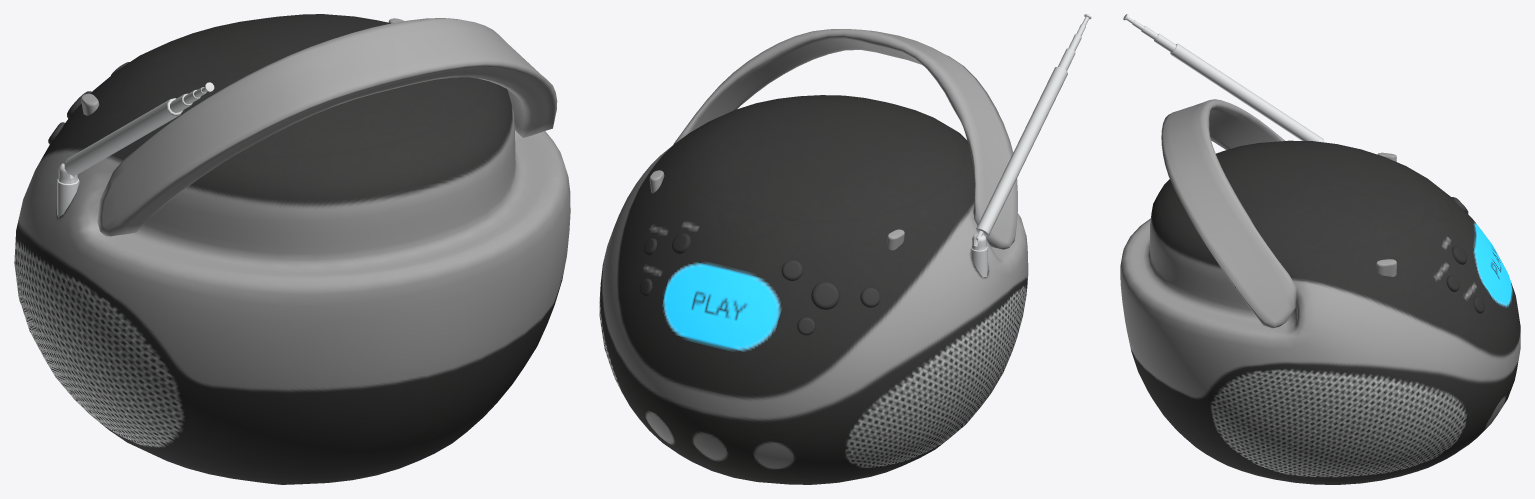
The model's file is BoomBox.gltf.
3 views of the same model, side by side, from view 1: azimuth 30°, elevation 25°; view 2: azimuth 150°, elevation 25°; view 3: azimuth 270°, elevation 25° (orthographic). The views are drawn at different scales.
Parts seen in each view (by area): view 1: mesh; view 2: mesh; view 3: mesh.
Boxes of the visible parts, x1,y1,x2,y2 form: mesh: (14, 14, 570, 484); mesh: (599, 14, 1091, 484); mesh: (1120, 14, 1520, 484).
Bounding box in the file's own units: 0.0198 × 0.0195 × 0.0202.
1 material, 1 textured.
